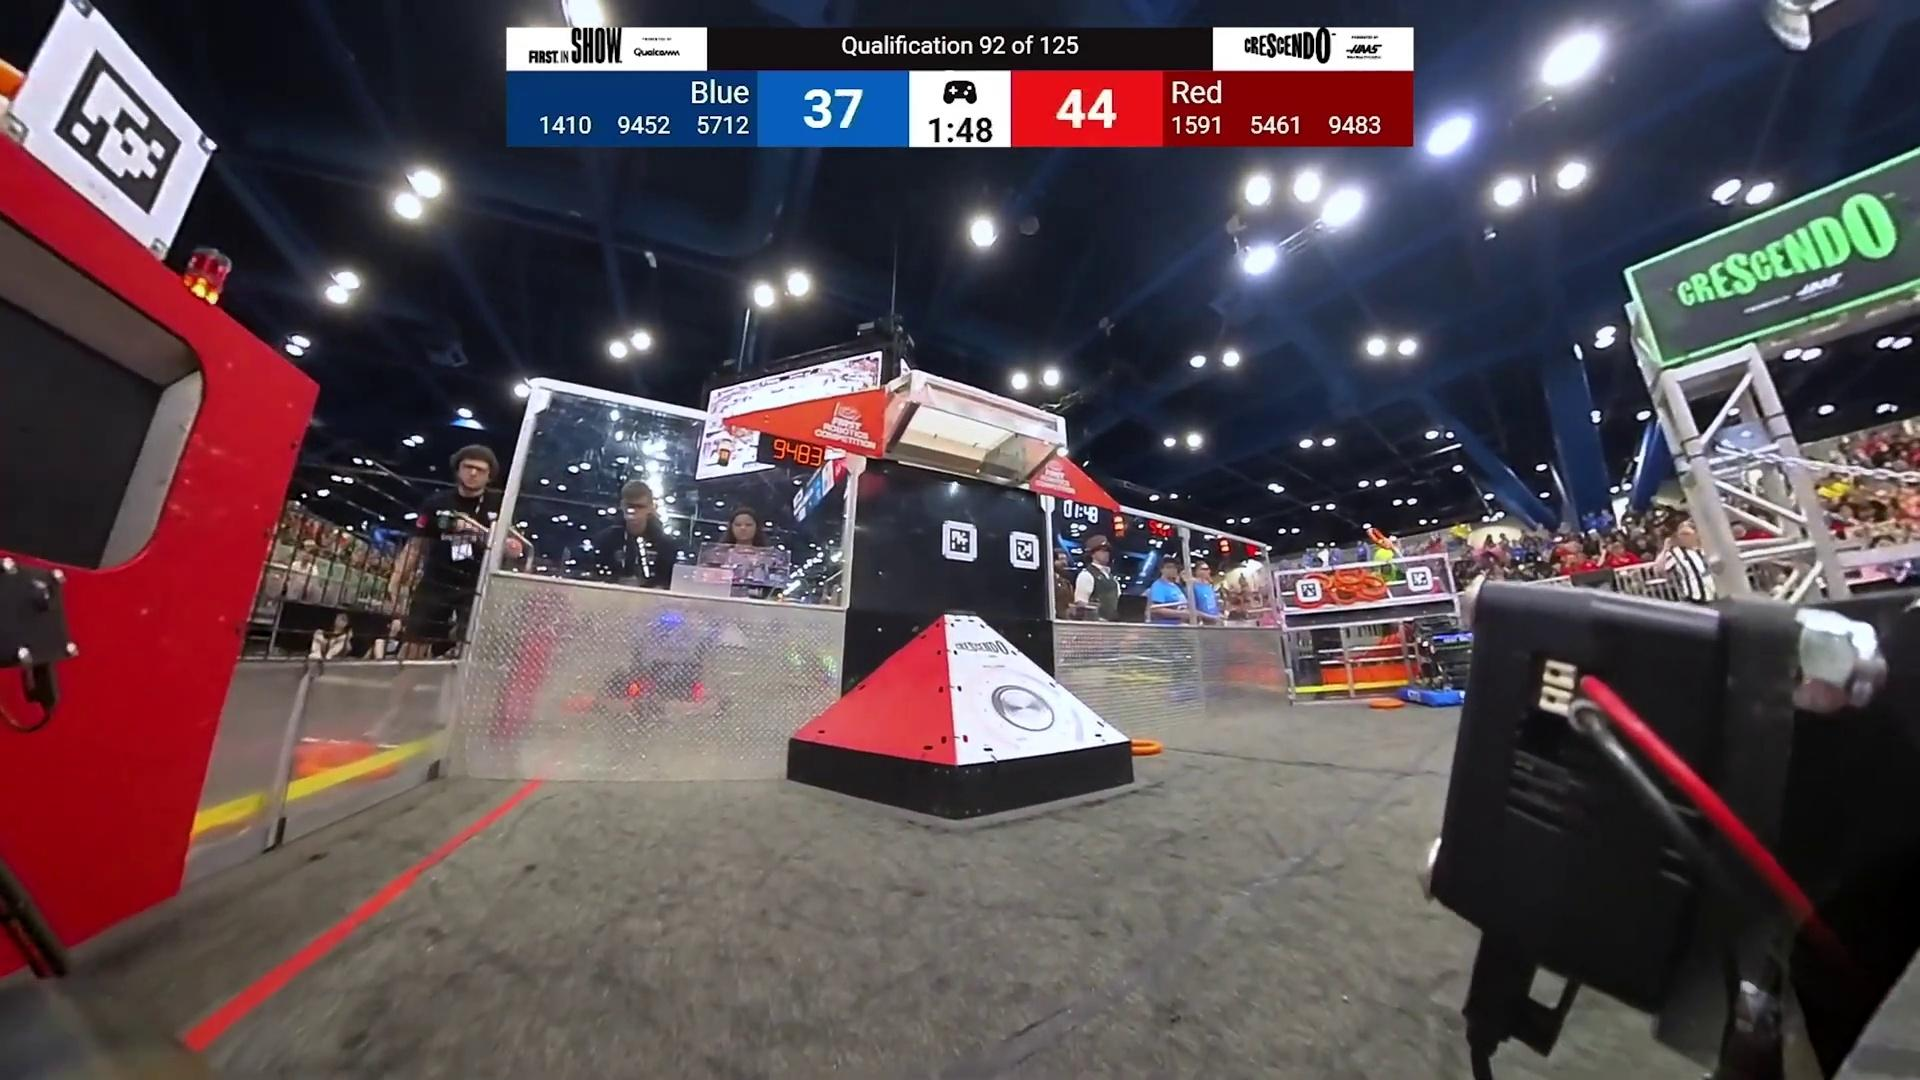robot: (1399, 625, 1477, 707)
